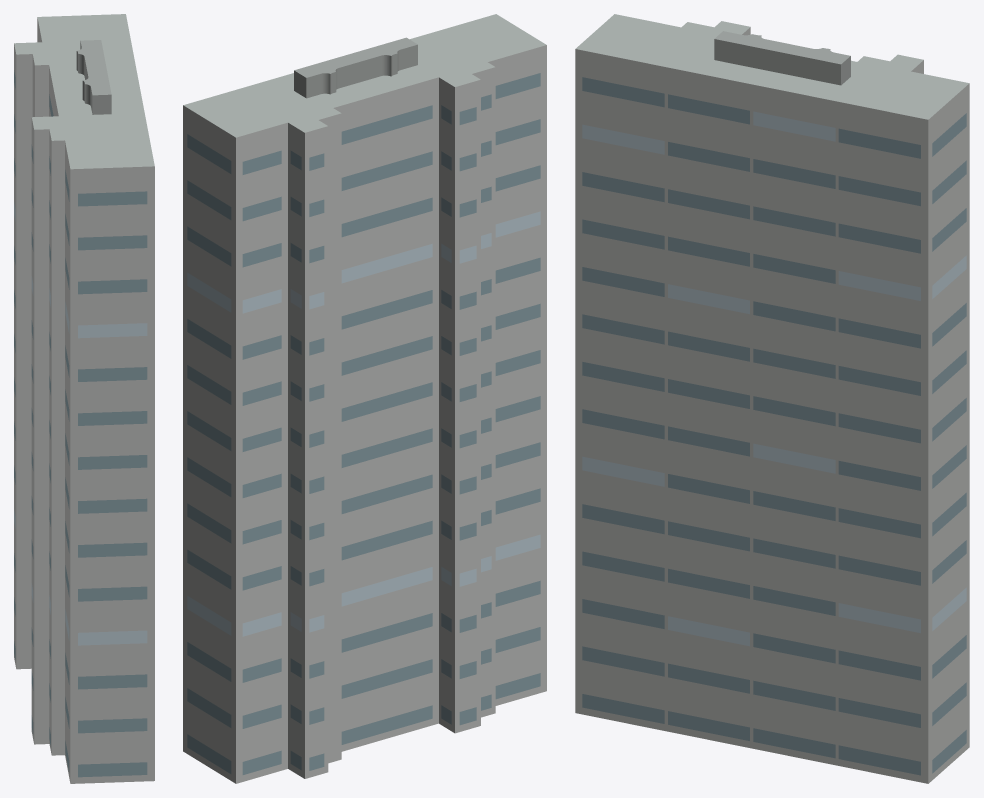
The model's file is fallback-banpo-xi-134.glb.
The picture shows the model from 3 angles, left to right: view 1: azimuth 30°, elevation 25°; view 2: azimuth 150°, elevation 25°; view 3: azimuth 270°, elevation 25°; orthographic projection. The views are drawn at different scales.
Visible parts, largest first — view 1: fallback-banpo-xi-134; view 2: fallback-banpo-xi-134; view 3: fallback-banpo-xi-134.
Part boxes in pixels (<box>): fallback-banpo-xi-134: <box>14,14,154,783</box>; fallback-banpo-xi-134: <box>183,14,546,783</box>; fallback-banpo-xi-134: <box>575,14,969,783</box>.
Size of the model in its own units: 25.84 by 78 by 40.67.
